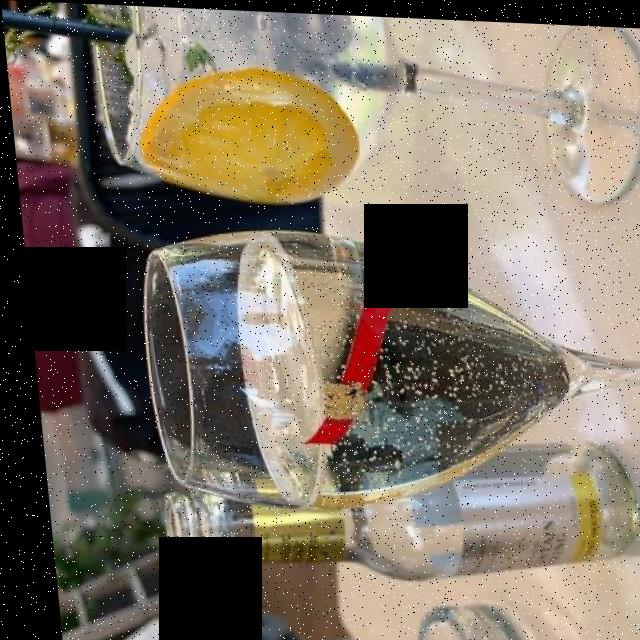prosecco: (232, 237, 557, 487)
